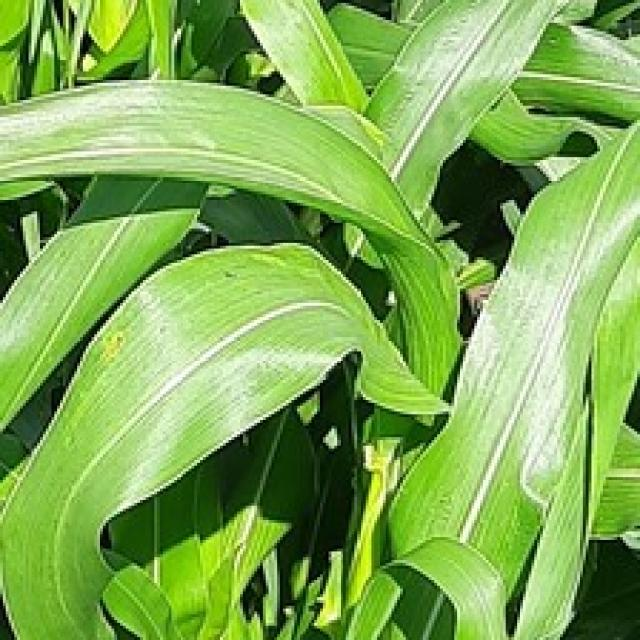Corn: (0, 0, 637, 637), (0, 237, 451, 637), (0, 74, 463, 414), (380, 97, 637, 637), (0, 200, 203, 520)
